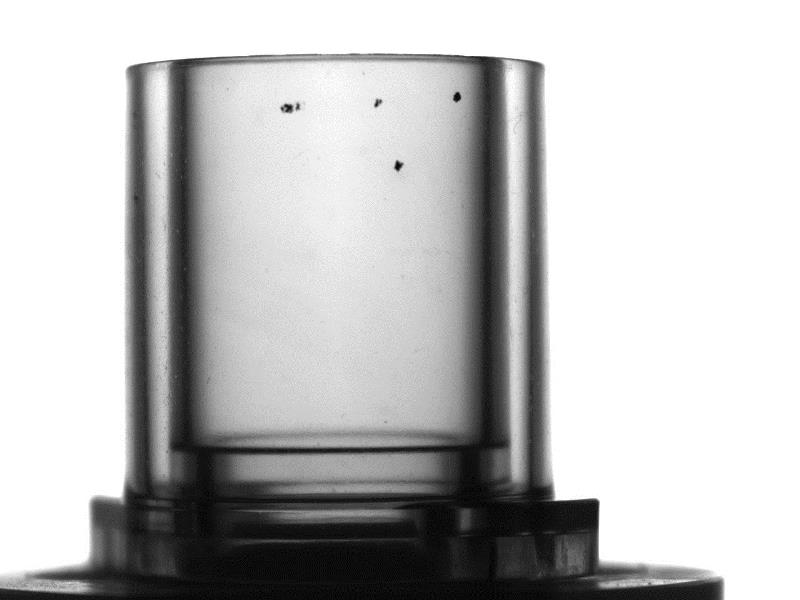blackdot: (279, 99, 305, 113), (450, 89, 465, 106), (391, 159, 405, 174), (372, 94, 385, 110)
